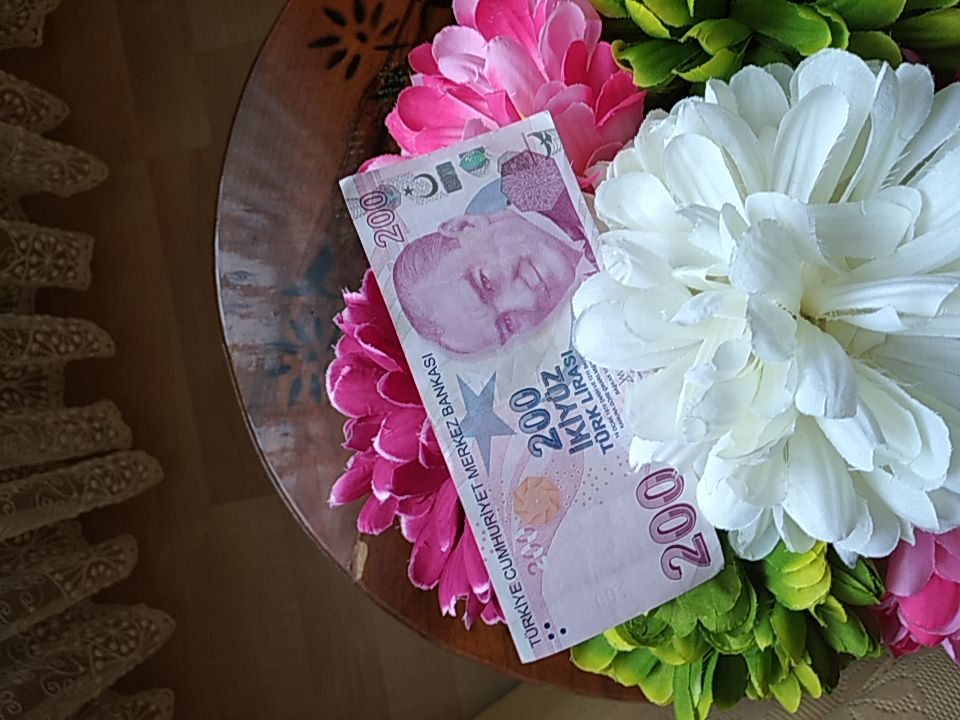200TL: (335, 108, 728, 666)
